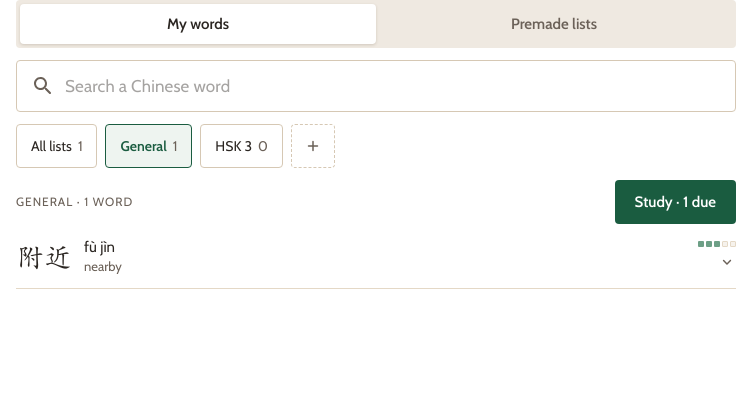
Test: AddWords — the search › adds an entry in one tap and marks it Added
Expected: the text "附近" is shown, [16,242,72,270]
Type "好" into the field labelled "Search a Chinese word".
click(398, 86); type("好")  # box [65,69,731,103]
Then press Enter
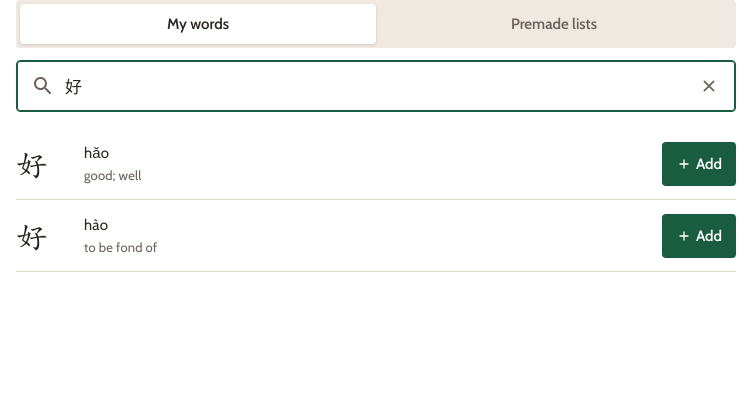
Click the button with aria-label "Add 好, hǎo".
click(699, 164)  # box [662,142,736,186]
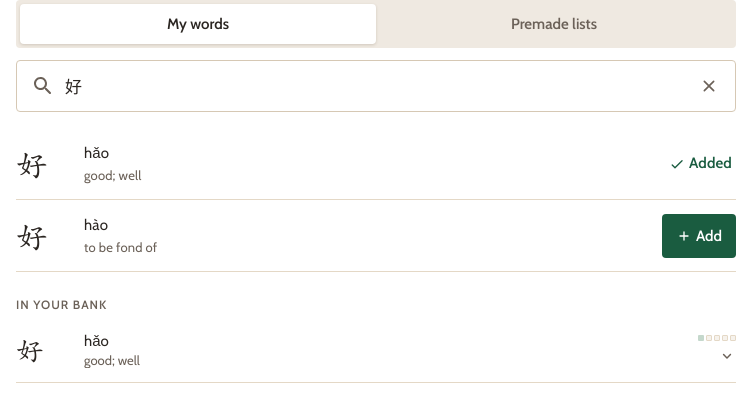
Now the button with aria-label "Add 好, hào" is shown, box [662,214,736,258]
Now the text "Added" is shown, box [669,154,732,172]
Now the heading "In your bank" is shown, box [16,297,107,312]
